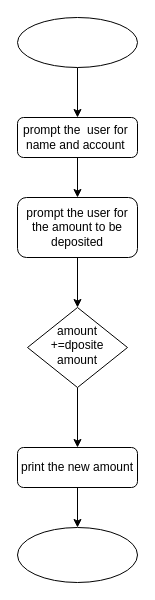
This 155x600 diagram has some shape labels left out. Each missing label, with the centre of its shape:
end: point (77, 554)
start: point (77, 42)
